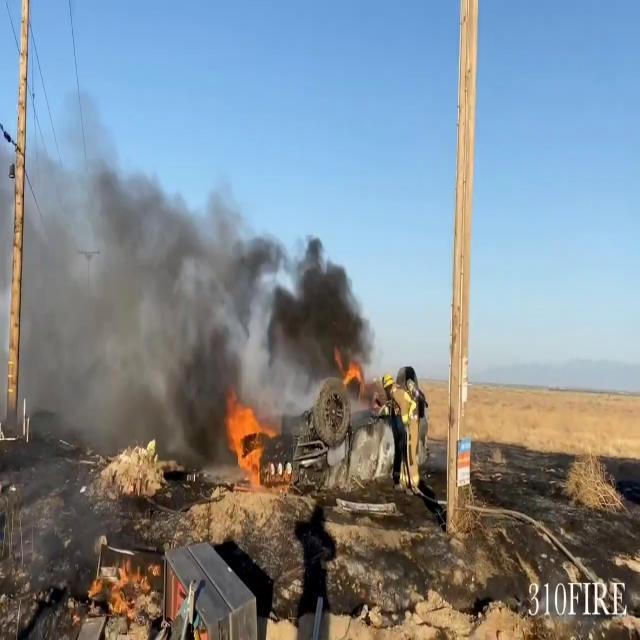Fire: (222, 392, 280, 488)
Smoke: (6, 146, 372, 456)
